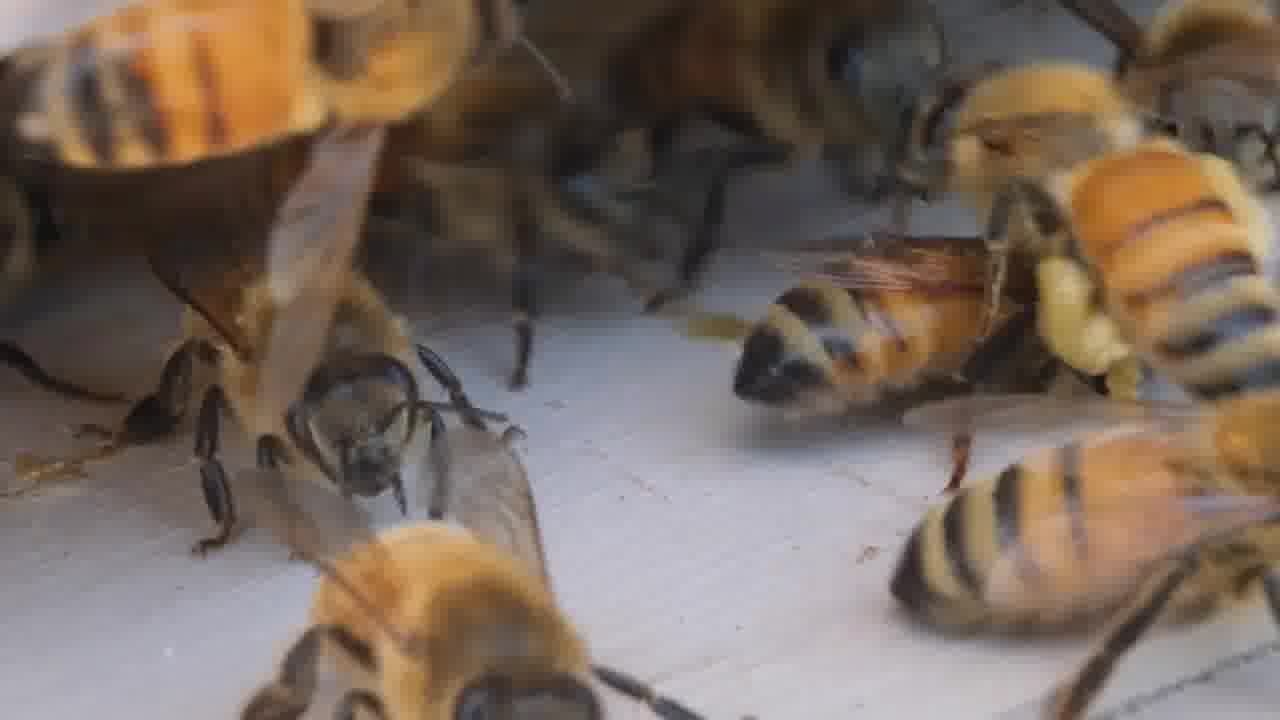pollen: (894, 59, 1280, 403)
